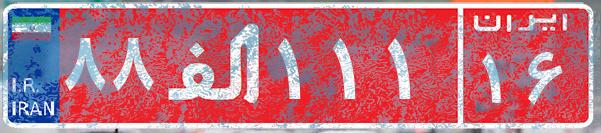1: (385, 28, 445, 110), (273, 28, 330, 110), (330, 28, 385, 110), (475, 38, 525, 113)
6: (525, 38, 570, 115)
8: (57, 26, 110, 107), (110, 28, 158, 105)
الف: (158, 15, 273, 115)
